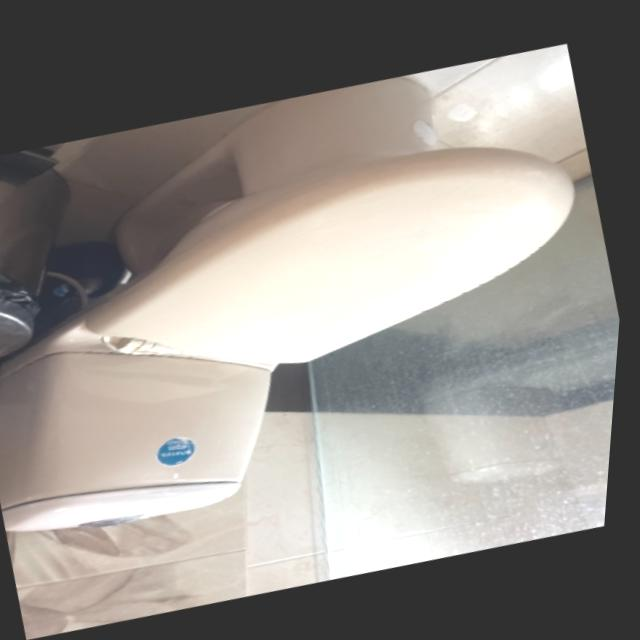toilet: (0, 11, 639, 578)
